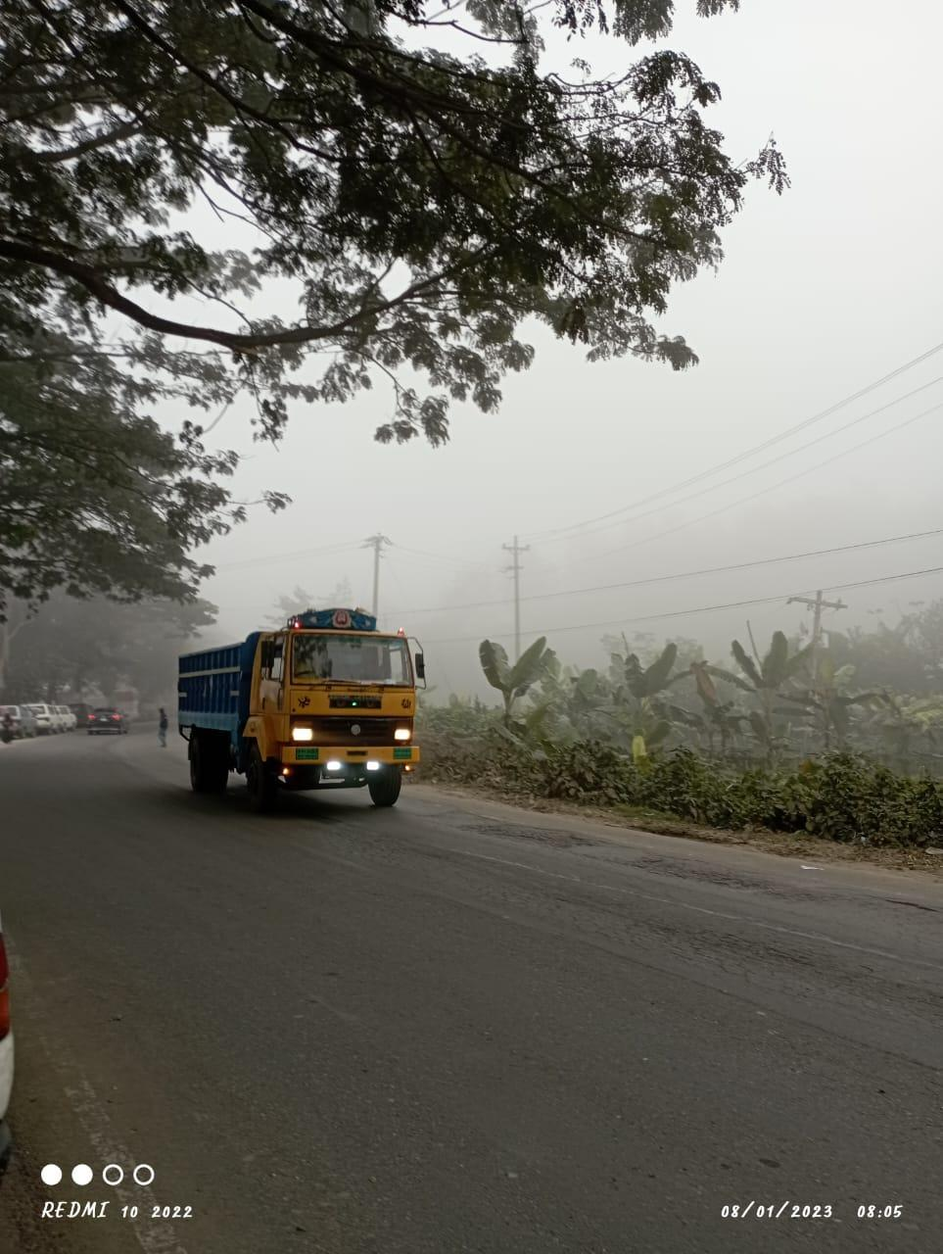Car: (84, 699, 130, 737)
Truck: (163, 591, 435, 822)
